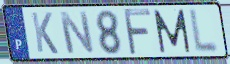8: (94, 8, 123, 56)
F: (122, 8, 153, 57)
K: (29, 11, 60, 56)
L: (188, 7, 220, 55)
M: (152, 8, 193, 55)
N: (57, 10, 97, 56)
